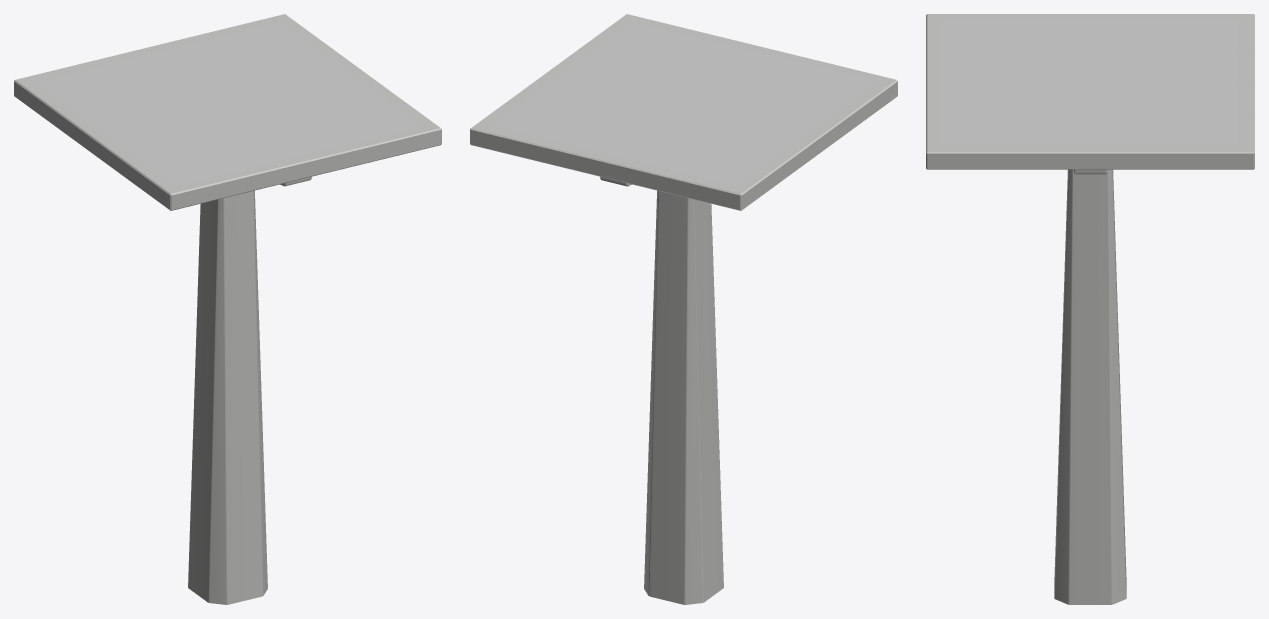
File: PlatformTall.fbx
3 renders of one model, left to right at view 1: azimuth 30°, elevation 25°; view 2: azimuth 150°, elevation 25°; view 3: azimuth 270°, elevation 25°, orthographic. The views are drawn at different scales.
Visible parts, largest first — view 1: PlatformTall; view 2: PlatformTall; view 3: PlatformTall.
Boxes of the visible parts, <box> form: PlatformTall: <box>14,14,441,604</box>; PlatformTall: <box>470,14,897,604</box>; PlatformTall: <box>926,14,1254,604</box>.
Size of the model in its own units: 500 by 850 by 500.
